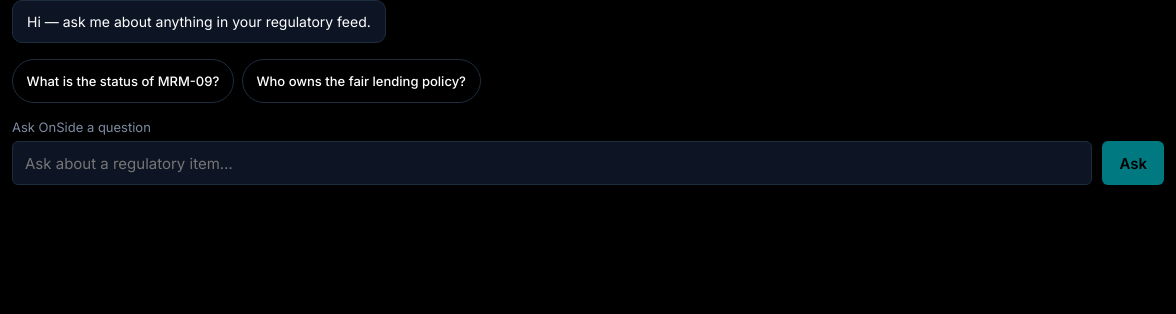
Test: AskChatPanel — matching contract (AC-A16-9, §2.9.4) › any other submission renders defaultNoMatchMessage via the no-match state — never a partial match
Type "something totally unscripted" into the field labelled "Ask OnSide a question" at (552, 163), box [12,141,1092,185]
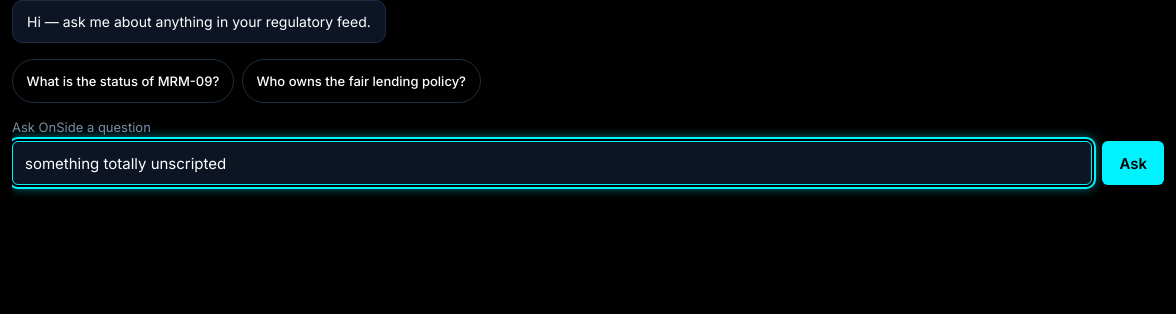
Click the button "Ask" at (1133, 163), box [1102,141,1164,185]
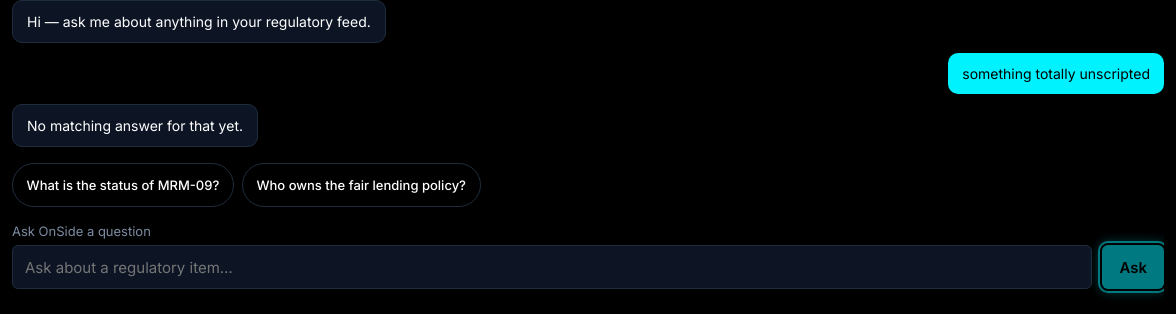
Check: the text "No matching answer for that yet." is shown, box [12,104,258,147]
